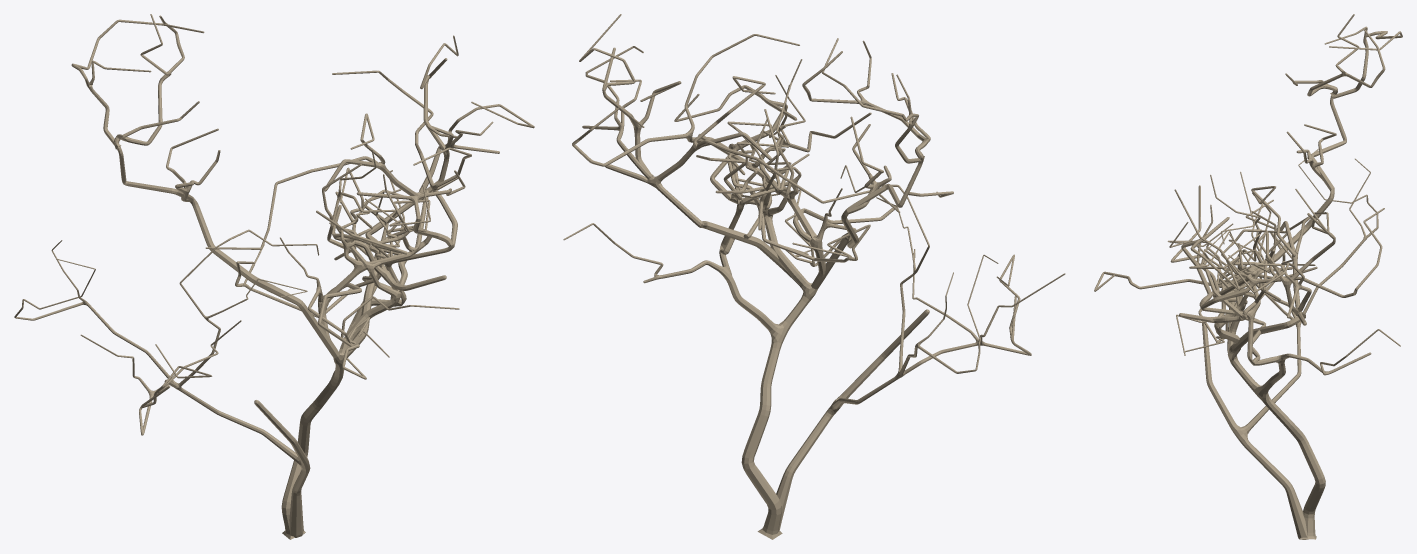
3 renders of one model, left to right at view 1: azimuth 30°, elevation 25°; view 2: azimuth 150°, elevation 25°; view 3: azimuth 270°, elevation 25°, orthographic. The views are drawn at different scales.
Parts seen in each view (by area): view 1: Arbusto; view 2: Arbusto; view 3: Arbusto.
Part boxes in pixels (x1,y1,x2,y2): Arbusto: (14, 14, 534, 539); Arbusto: (563, 14, 1065, 539); Arbusto: (1094, 14, 1402, 539).
Bounding box in the file's own units: 2.91 × 3.2 × 1.89.
